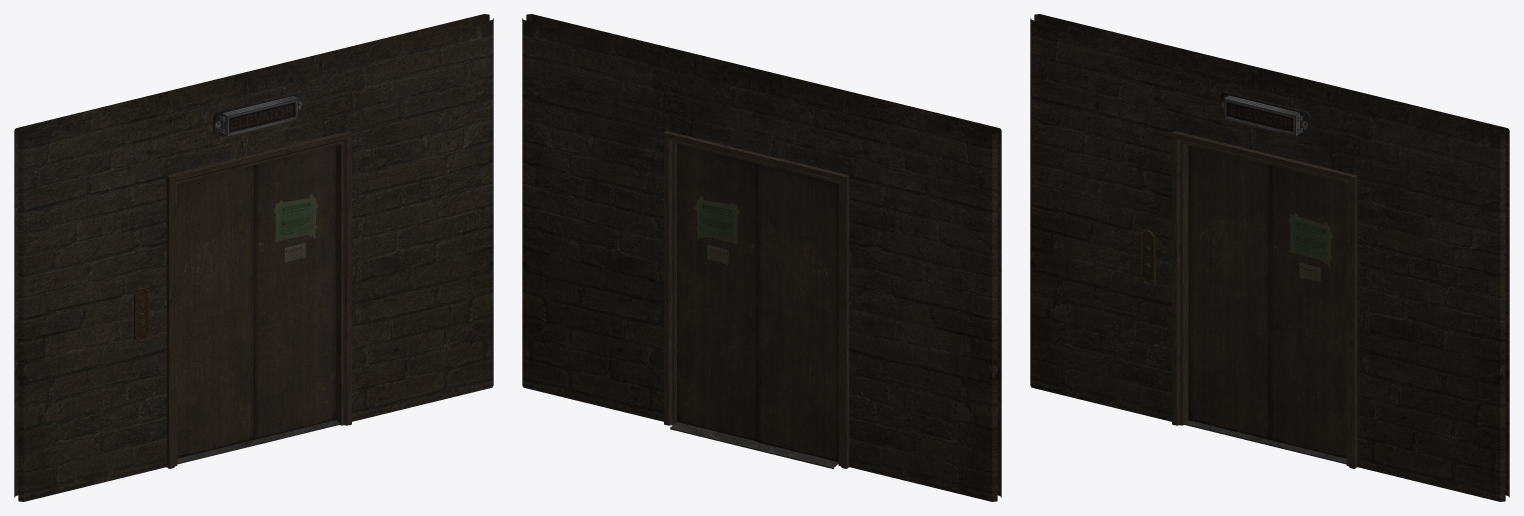
Rendered from elevator_doorway_3.obj.
The picture shows the model from 3 angles, left to right: view 1: azimuth 30°, elevation 25°; view 2: azimuth 150°, elevation 25°; view 3: azimuth 330°, elevation 25°; orthographic projection.
Parts seen in each view (by area): view 1: elevator_doorway_3, elevator_door_6_a, elevator_door_6_b; view 2: elevator_doorway_3, elevator_door_6_b, elevator_door_6_a; view 3: elevator_doorway_3, elevator_door_6_b, elevator_door_6_a.
Part boxes in pixels (box(x1,y1,x2,y2)): elevator_doorway_3: box(14, 14, 493, 501); elevator_door_6_a: box(254, 145, 336, 439); elevator_door_6_b: box(177, 165, 253, 458); elevator_doorway_3: box(522, 14, 1001, 501); elevator_door_6_b: box(758, 164, 838, 464); elevator_door_6_a: box(677, 144, 757, 441); elevator_doorway_3: box(1030, 14, 1509, 501); elevator_door_6_b: box(1188, 145, 1269, 439); elevator_door_6_a: box(1269, 165, 1346, 458).
Bounding box in the file's own units: 4.06 × 3 × 0.29.
